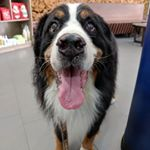puppy: (26, 1, 125, 150)
